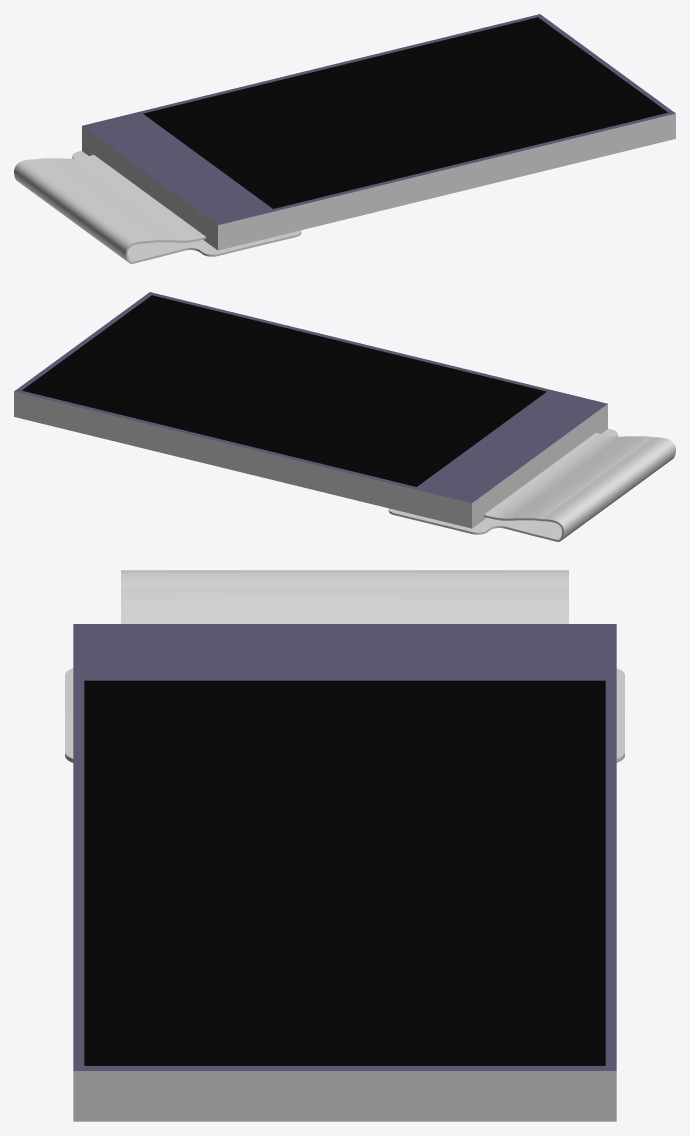
File: Main_Screen.dae
3 views of the same model, one above another, from view 1: azimuth 30°, elevation 25°; view 2: azimuth 150°, elevation 25°; view 3: azimuth 270°, elevation 25° (orthographic). The views are drawn at different scales.
Visible parts, largest first — view 1: Main_Screen; view 2: Main_Screen; view 3: Main_Screen.
Part boxes in pixels (bbox=[...]): Main_Screen: bbox=[14, 14, 675, 263]; Main_Screen: bbox=[14, 292, 675, 541]; Main_Screen: bbox=[65, 570, 624, 1121].
Size of the model in its own units: 0.0277 by 0.0125 by 0.00146.
